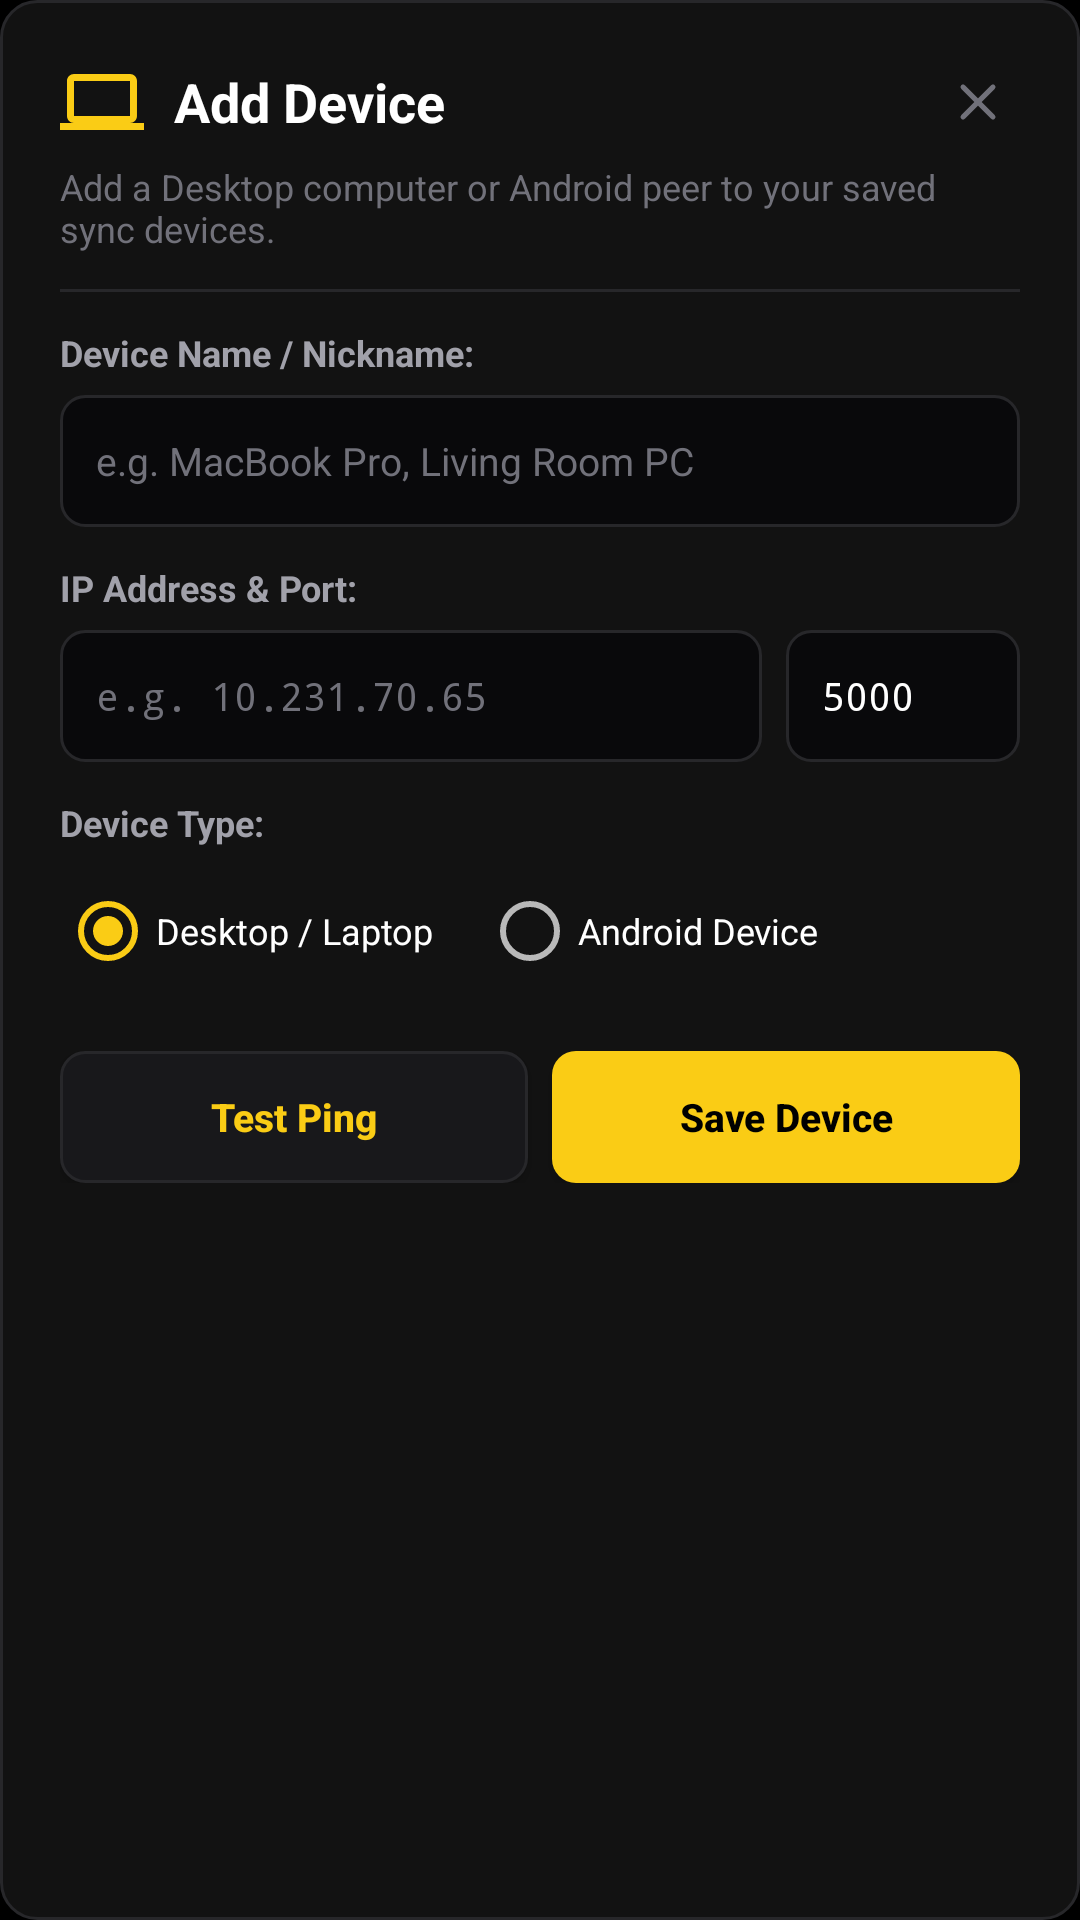

Point at icon controls on the screen. Image size 1080px x 1920px, points as (x=x, y=y).
Close: (x=978, y=102)
